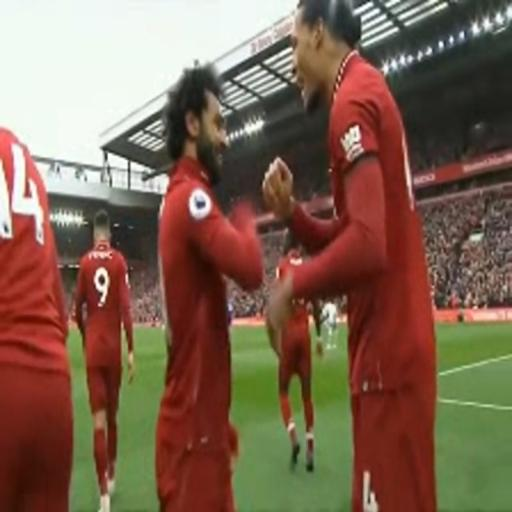nao-violencia: (145, 0, 450, 512)
